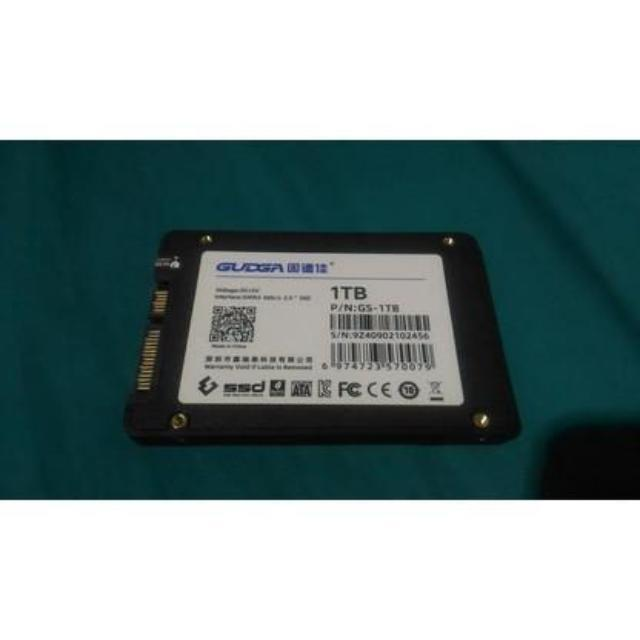DISK: (121, 218, 524, 444)
